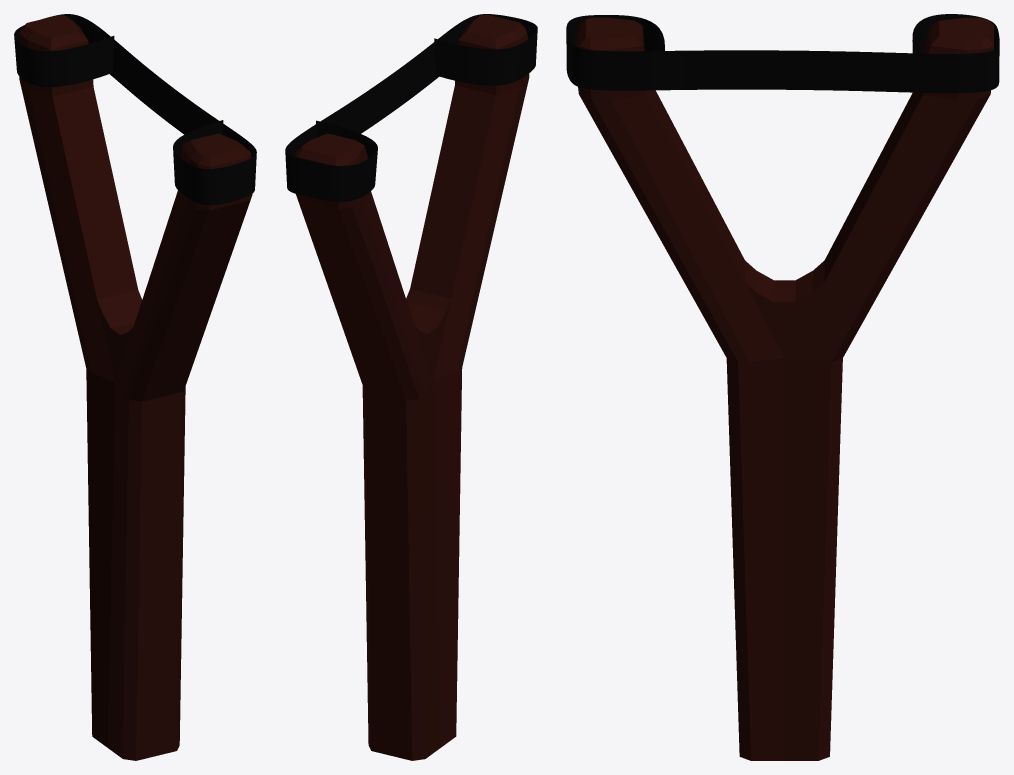
Rendered from estilingue.obj.
3 renders of one model, left to right at view 1: azimuth 30°, elevation 25°; view 2: azimuth 150°, elevation 25°; view 3: azimuth 270°, elevation 25°, orthographic. The views are drawn at different scales.
Visible parts, largest first — view 1: Cube, NurbsPath; view 2: Cube, NurbsPath; view 3: Cube, NurbsPath.
Part boxes in pixels (box(x1,y1,x2,y2)): Cube: box(19, 15, 252, 760); NurbsPath: box(14, 14, 256, 205); Cube: box(295, 14, 529, 760); NurbsPath: box(285, 14, 537, 202); Cube: box(575, 17, 993, 760); NurbsPath: box(566, 14, 999, 93).
Size of the model in its own units: 0.1727 by 1.42 by 0.7793.
